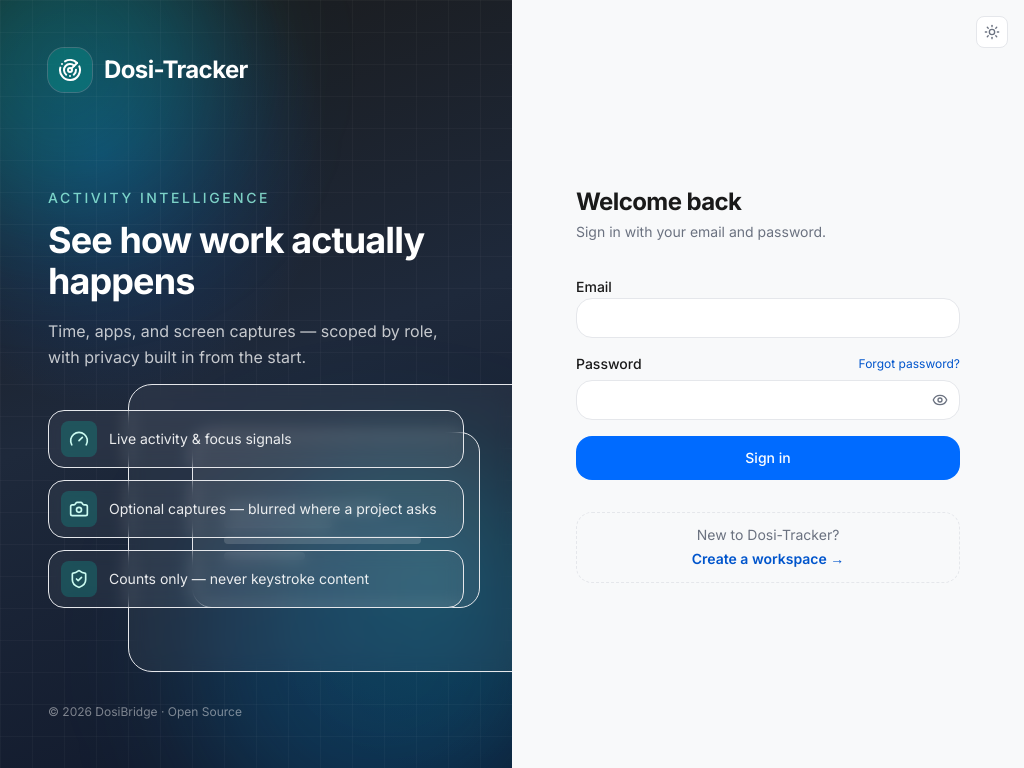
Test: login page — sign-in form › says the server is unreachable rather than blaming the password when the request never lands
Type "ayesha@dosi.dev" into the field labelled "Email" at (768, 318), box [576,298,960,338]
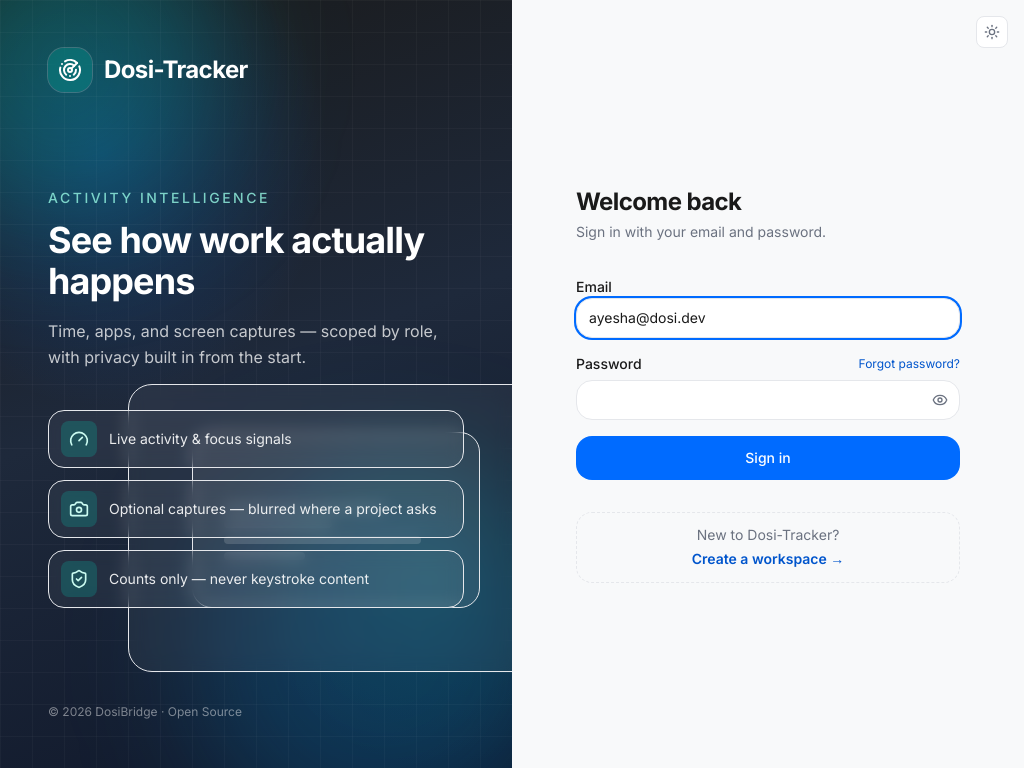
Type "correct-horse" into the password field labelled "Password" at (768, 400), box [576,380,960,420]
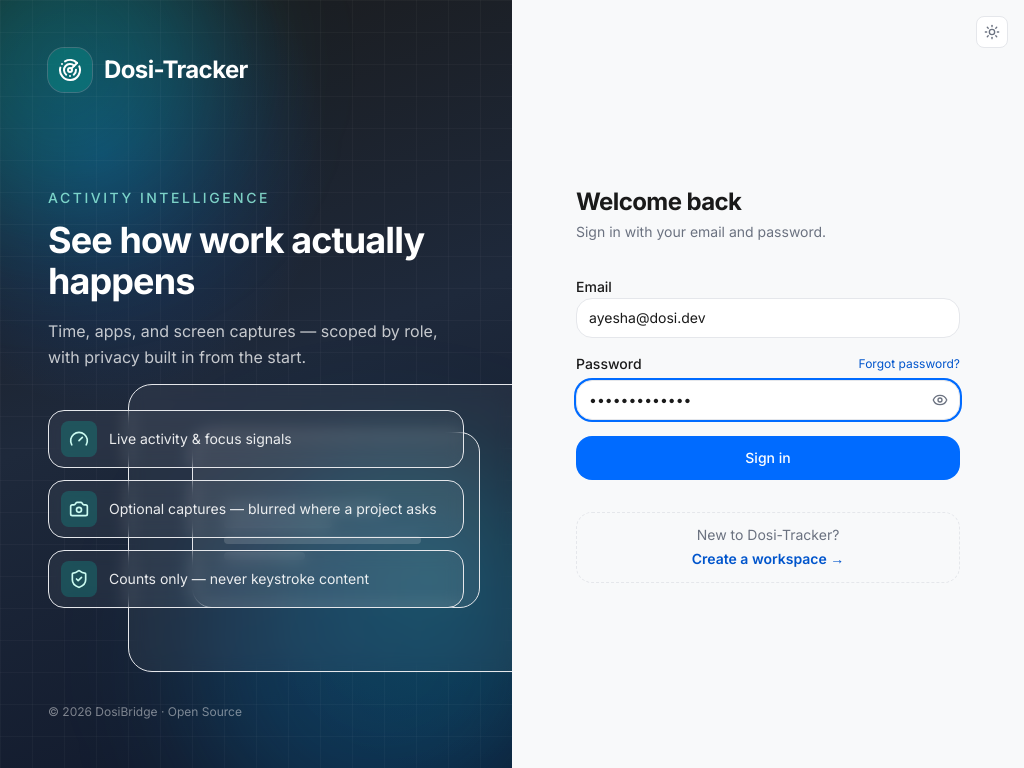
Click the button "Sign in" at (768, 458), box [576,436,960,480]
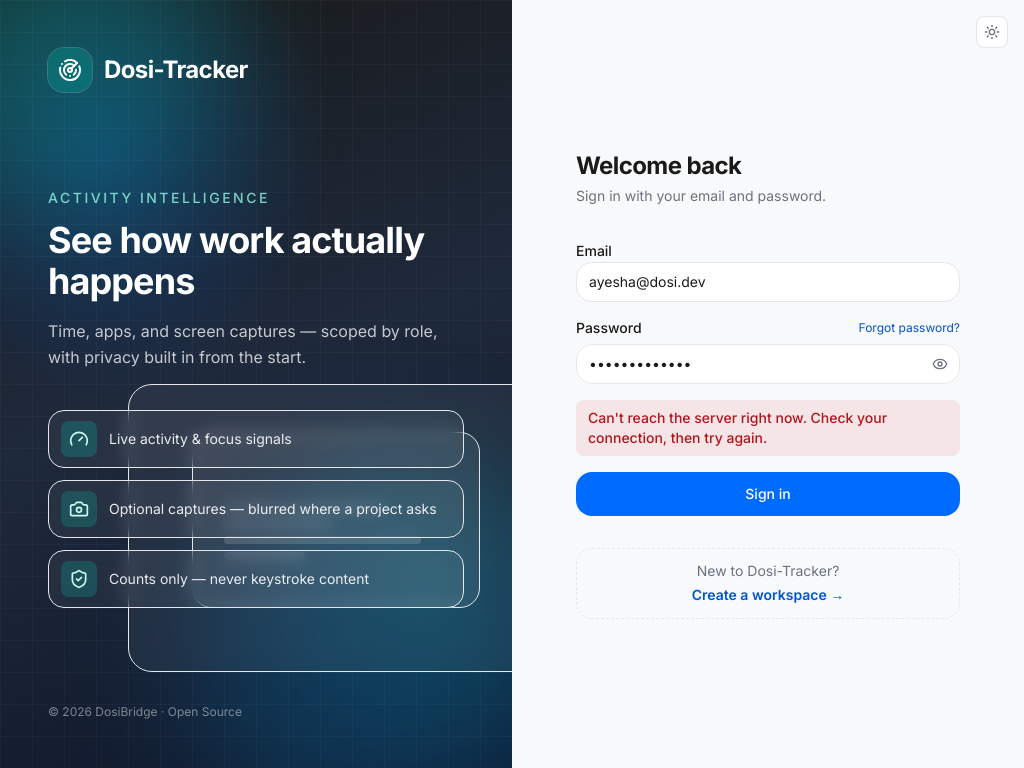
Expected: the button "Sign in" is enabled, [576,472,960,516]
Result: the text "Can't reach the server right now. Check your connection, then try again." is shown at [576,400,960,456]
